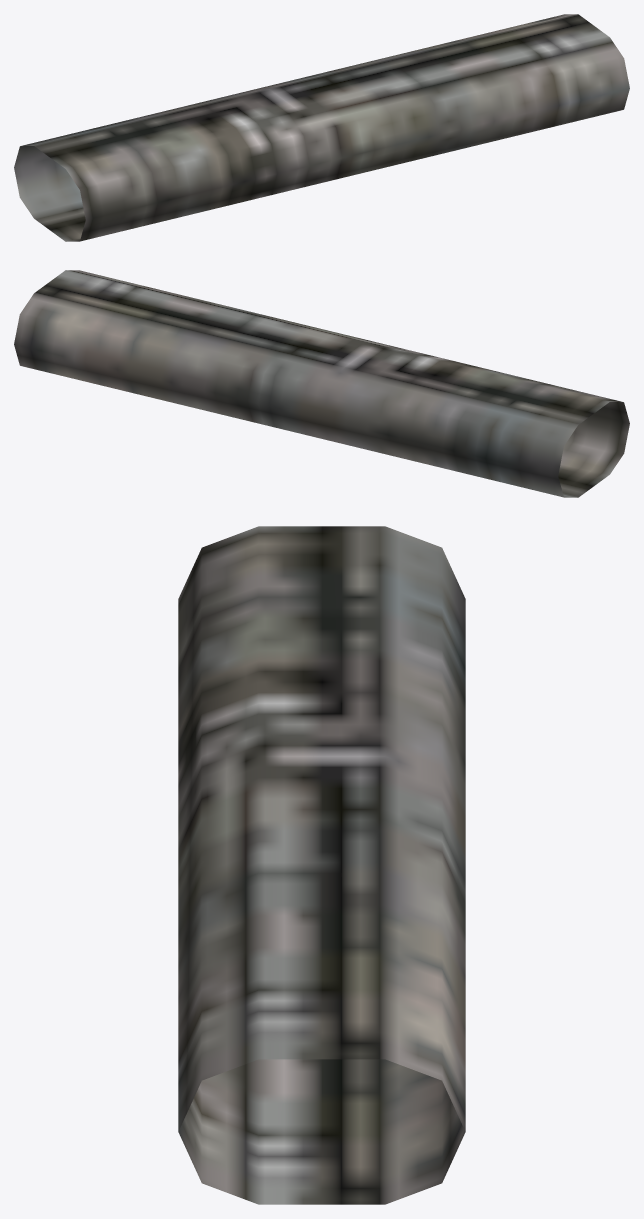
File: lambda_strut_l_l0.fbx
3 views of the same model, one above another, from view 1: azimuth 30°, elevation 25°; view 2: azimuth 150°, elevation 25°; view 3: azimuth 270°, elevation 25° (orthographic). The views are drawn at different scales.
Visible parts, largest first — view 1: mesh_node; view 2: mesh_node; view 3: mesh_node.
Boxes of the visible parts, box(x1,y1,x2,y2) form: mesh_node: box(14, 14, 629, 241); mesh_node: box(14, 270, 629, 497); mesh_node: box(178, 526, 465, 1204).
Bounding box in the file's own units: 3.21 × 0.4147 × 0.7334.
